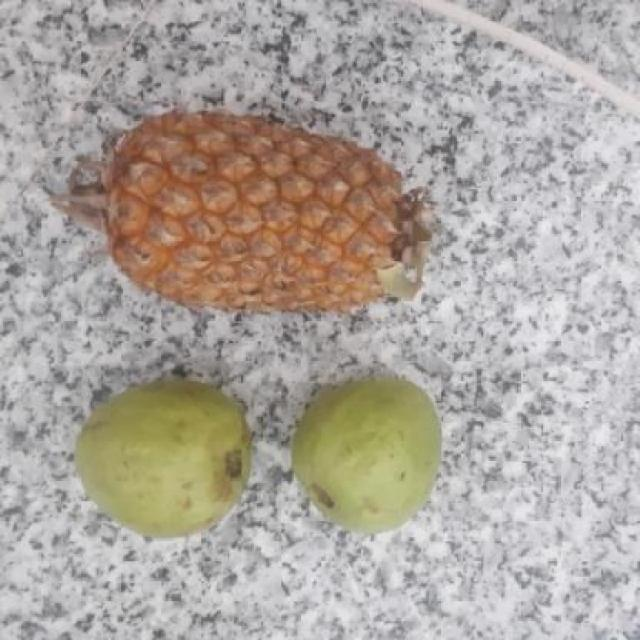guava: (76, 375, 259, 536), (289, 382, 448, 530)
pineapple: (82, 105, 430, 317)
